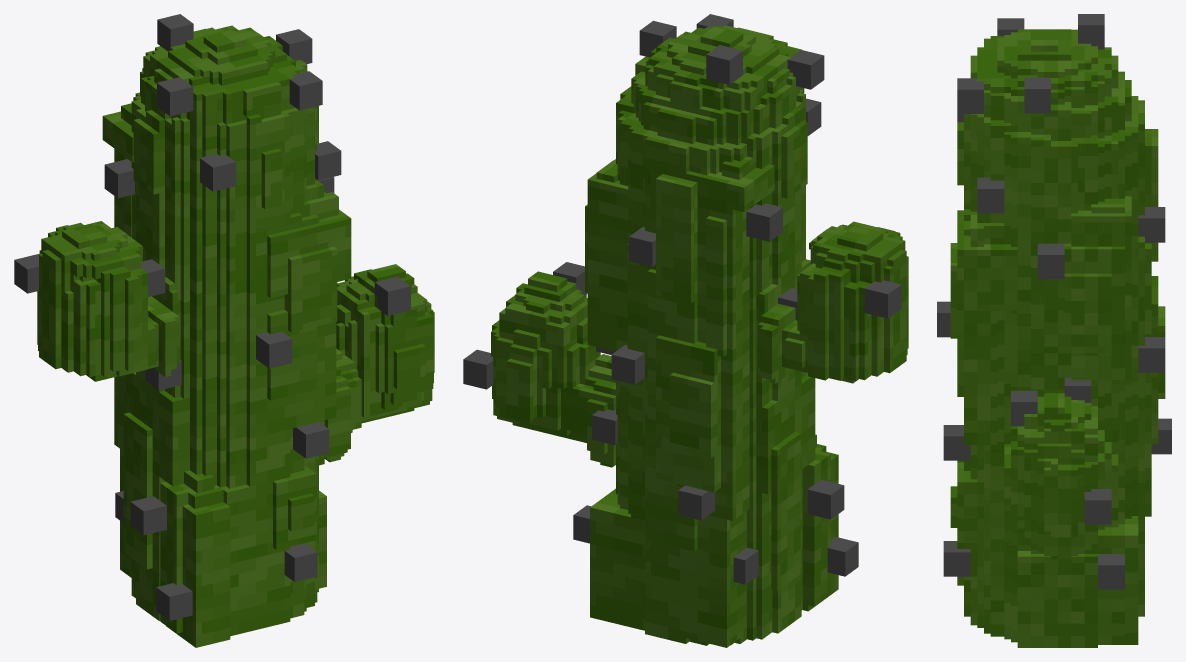
The model's file is cactus_1.fbx.
3 views of the same model, side by side, from view 1: azimuth 30°, elevation 25°; view 2: azimuth 150°, elevation 25°; view 3: azimuth 270°, elevation 25° (orthographic).
Visible parts, largest first — view 1: cactus_1; view 2: cactus_1; view 3: cactus_1.
Boxes of the visible parts, bbox=[...] form: cactus_1: bbox=[14, 14, 434, 647]; cactus_1: bbox=[463, 14, 908, 647]; cactus_1: bbox=[937, 14, 1171, 647].
Bounding box in the file's own units: 710 × 350 × 940.
